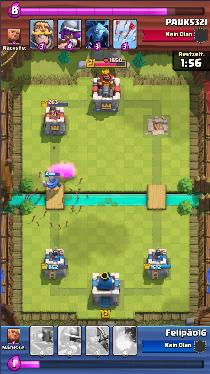ally_arrow: (24, 171, 90, 228)
ally_knight: (40, 175, 61, 192)
